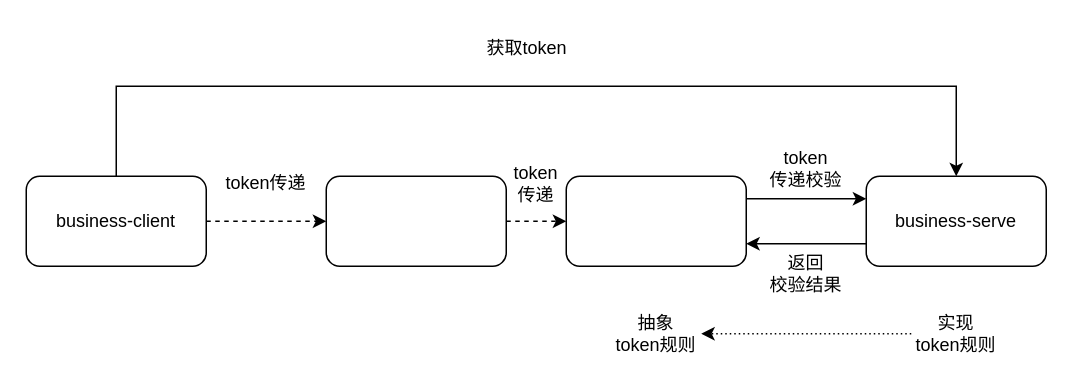
Image size: 1073x381. Some labels were removed from this diagram. The shapes that lost their labels are listed below. From the top down, each one's box as (x1, y1, x2, y2) in pixels, then its label:
(325, 175, 506, 266): im-client
(565, 175, 746, 266): im-serve
